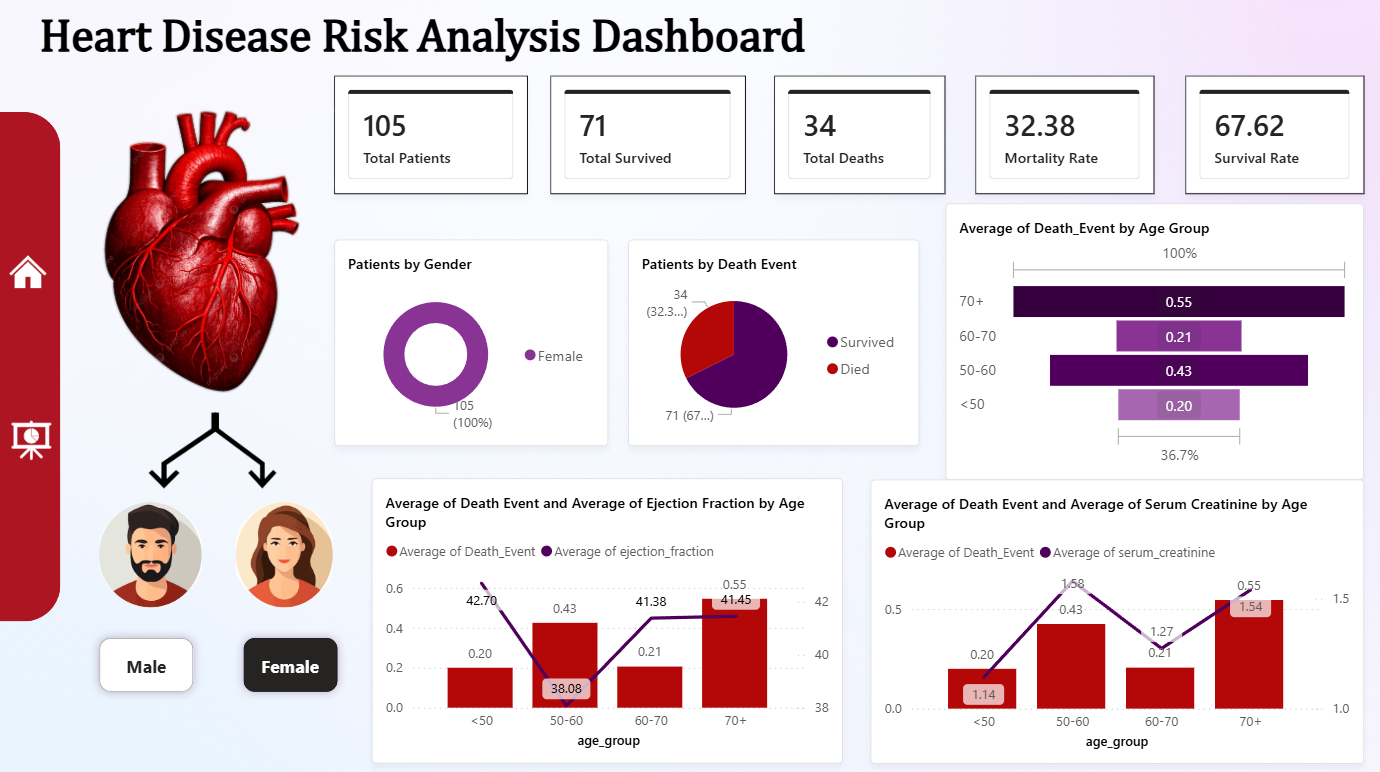

The page's visual inventory and layout, read from the dashboard file:
{"tool":"powerbi","page":{"name":"Overview","canvas":[1280,720],"ordinal":0},"visuals":[{"type":"cardVisual","fields":{"Data":["Heart Disease EDA.Total Patients"]},"box":[311.2,72.9,179.3,109.9],"z":0},{"type":"cardVisual","fields":{"Data":["Heart Disease EDA.Total Deaths"]},"box":[718.3,72.9,158.5,109.9],"z":1000},{"type":"cardVisual","fields":{"Data":["Heart Disease EDA.Total Survived"]},"box":[511.3,72.9,180.4,109.9],"z":2000},{"type":"cardVisual","fields":{"Data":["Heart Disease EDA.Mortality Rate"]},"box":[904.5,72.9,165.4,109.9],"z":3000},{"type":"cardVisual","fields":{"Data":["Heart Disease EDA.Survival Rate"]},"box":[1098.9,72.9,165.4,109.9],"z":4000},{"type":"pieChart","title":"Patients by Death Event","fields":{"Category":["Heart Disease EDA.outcome_label"],"Y":["Heart Disease EDA.Total Patients"]},"box":[583,224.4,269.5,190.9],"z":5000},{"type":"donutChart","title":"Patients by Gender","fields":{"Y":["Heart Disease EDA.Total Patients"],"Category":["Heart Disease EDA.sex_label"]},"box":[311.2,224.4,253.3,190.9],"z":6000},{"type":"funnel","title":"Average of Death_Event by Age Group","fields":{"Category":["Heart Disease EDA.age_group"],"Y":["Avg(Heart Disease EDA.Death_Event)"]},"box":[876.8,190.9,387.5,255.6],"z":7000},{"type":"textbox","box":[33.9,9,747.4,71.2],"z":8000},{"type":"image","box":[92.7,467,97.2,97.2],"z":9000},{"type":"image","box":[218.2,467,92.7,97.2],"z":10000},{"type":"lineStackedColumnComboChart","title":"Average of Death Event and Average of Serum Creatinine by Age Group","fields":{"Category":["Heart Disease EDA.age_group"],"Y2":["Avg(Heart Disease EDA.serum_creatinine)"],"Y":["Avg(Heart Disease EDA.Death_Event)"]},"box":[807.3,446.6,456.8,263.4],"z":11000},{"type":"lineStackedColumnComboChart","title":"Average of Death Event and Average of Ejection Fraction by Age Group","fields":{"Y2":["Avg(Heart Disease EDA.ejection_fraction)"],"Category":["Heart Disease EDA.age_group"],"Y":["Avg(Heart Disease EDA.Death_Event)"]},"box":[345.9,445.3,436.1,263.7],"z":12000},{"type":"advancedSlicerVisual","fields":{"Values":["Heart Disease EDA.sex_label"]},"box":[57.7,577.8,288.3,82.5],"z":13000},{"type":"image","box":[47.5,80.3,284.9,313.2],"z":14000},{"type":"shape","box":[0,106.3,57.7,471.5],"z":15000},{"type":"image","box":[7.9,217.1,39.6,73.5],"z":16000},{"type":"image","box":[7.9,362.9,45.2,93.8],"z":17000},{"type":"image","box":[119.8,383.3,100.6,73.5],"z":18000},{"type":"image","box":[177.5,383.3,104,73.5],"z":19000}]}

Visuals, with their boxes in screenshot pixels (x1, y1, x2, y2), scaled from the page's 1280x720 canvas onto the 1380x772 screenshot:
cardVisual - Heart Disease EDA.Total Patients: rect(336, 78, 529, 196)
cardVisual - Heart Disease EDA.Total Deaths: rect(774, 78, 945, 196)
cardVisual - Heart Disease EDA.Total Survived: rect(551, 78, 746, 196)
cardVisual - Heart Disease EDA.Mortality Rate: rect(975, 78, 1153, 196)
cardVisual - Heart Disease EDA.Survival Rate: rect(1185, 78, 1363, 196)
"Patients by Death Event" pieChart: rect(629, 241, 919, 445)
"Patients by Gender" donutChart: rect(336, 241, 609, 445)
"Average of Death_Event by Age Group" funnel: rect(945, 205, 1363, 479)
textbox: rect(37, 10, 842, 86)
image: rect(100, 501, 205, 605)
image: rect(235, 501, 335, 605)
"Average of Death Event and Average of Serum Creatinine by Age Group" lineStackedColumnComboChart: rect(870, 479, 1363, 761)
"Average of Death Event and Average of Ejection Fraction by Age Group" lineStackedColumnComboChart: rect(373, 477, 843, 760)
advancedSlicerVisual - Heart Disease EDA.sex_label: rect(62, 620, 373, 708)
image: rect(51, 86, 358, 422)
shape: rect(0, 114, 62, 620)
image: rect(9, 233, 51, 312)
image: rect(9, 389, 57, 490)
image: rect(129, 411, 238, 490)
image: rect(191, 411, 303, 490)
